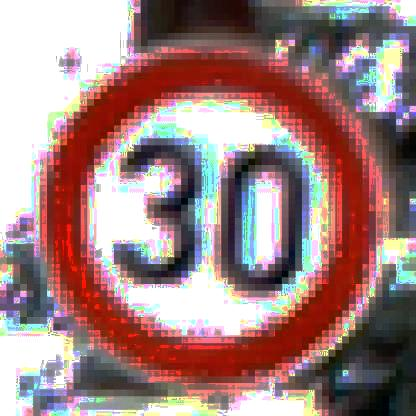Speed Limit -30-: (33, 36, 385, 386)
